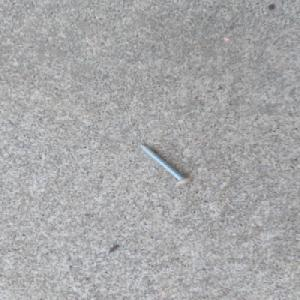Screw: (137, 142, 195, 185)
